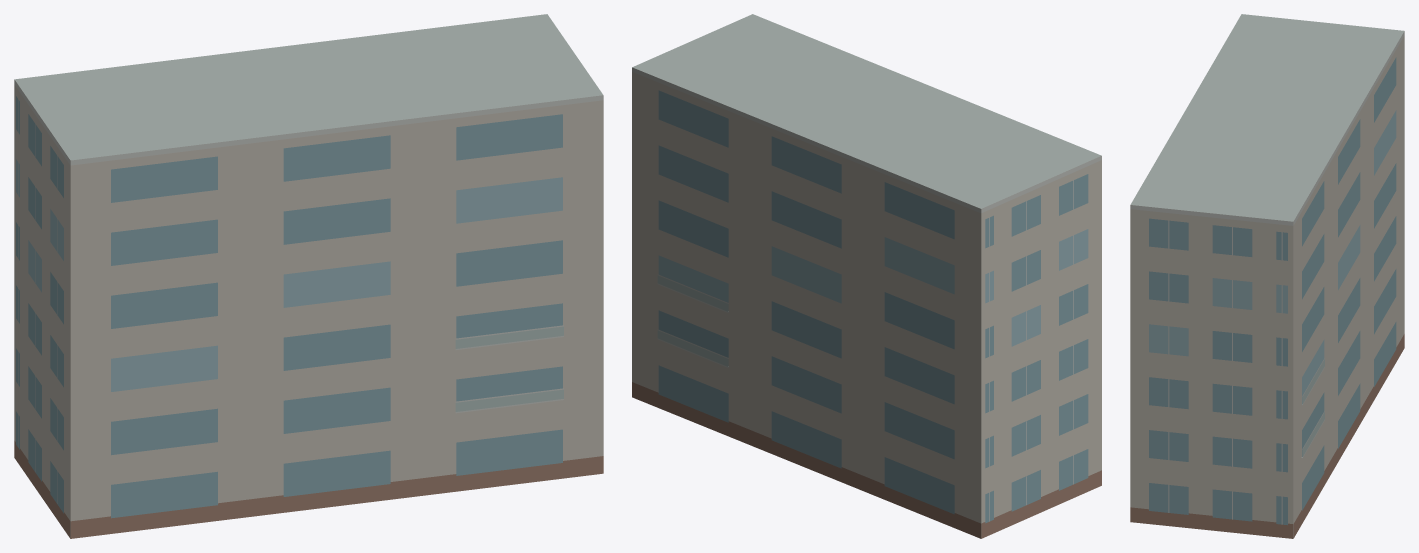
Rendered from survey-upis-32878424.glb.
The picture shows the model from 3 angles, left to right: view 1: azimuth 30°, elevation 25°; view 2: azimuth 150°, elevation 25°; view 3: azimuth 270°, elevation 25°; orthographic projection. The views are drawn at different scales.
Parts seen in each view (by area): view 1: survey-upis-32878424.tmp; view 2: survey-upis-32878424.tmp; view 3: survey-upis-32878424.tmp.
Part boxes in pixels (x1,y1,x2,y2): survey-upis-32878424.tmp: (14,14,603,538); survey-upis-32878424.tmp: (632,14,1101,538); survey-upis-32878424.tmp: (1130,14,1404,538).
Bounding box in the file's own units: 25.71 × 18.3 × 14.35.
